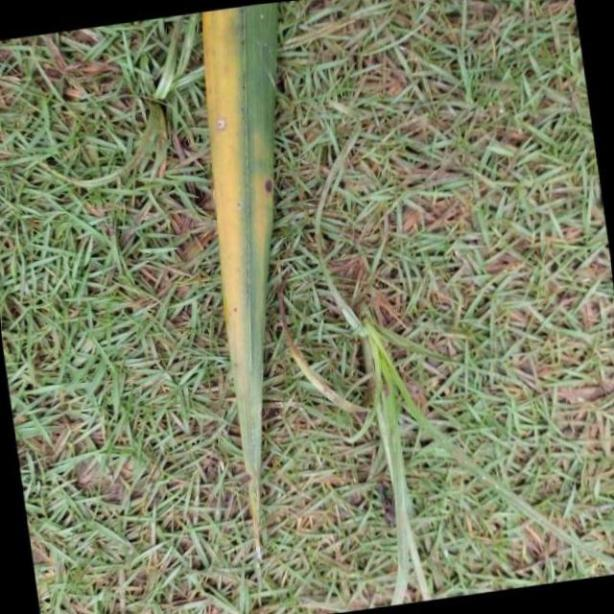Megnesium: (197, 0, 282, 605)
